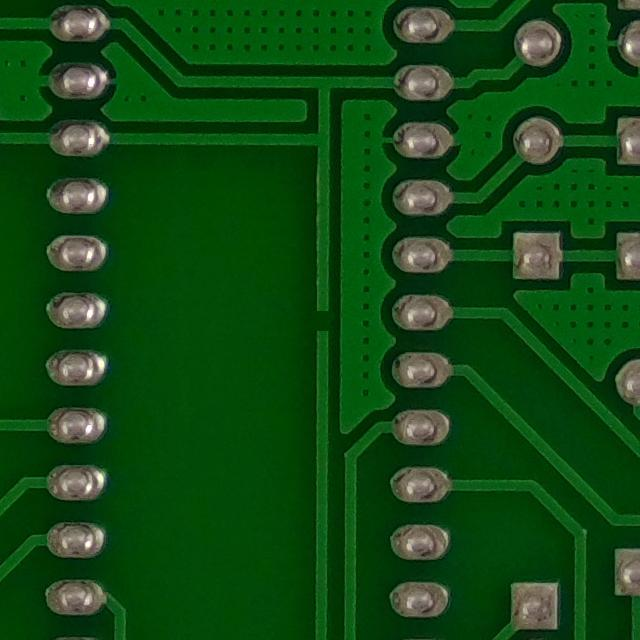open_circuit: (300, 299, 341, 341)
